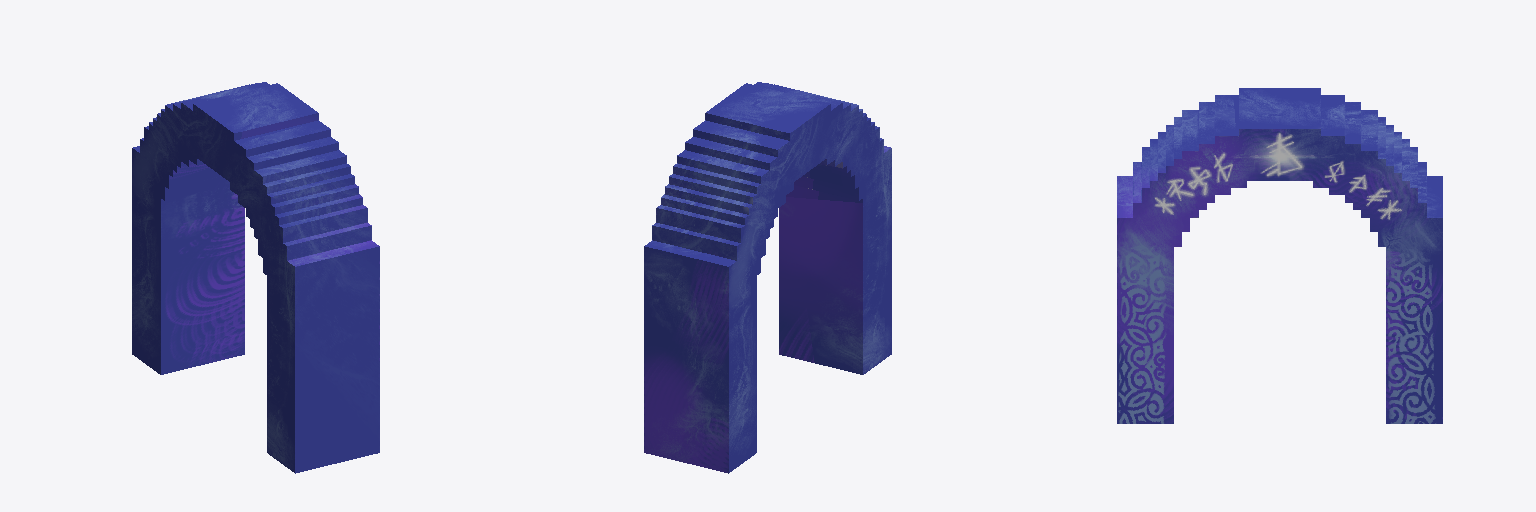
3 renders of one model, left to right at view 1: azimuth 30°, elevation 25°; view 2: azimuth 150°, elevation 25°; view 3: azimuth 270°, elevation 25°, orthographic.
Visible parts, largest first — view 1: Patch; view 2: Patch; view 3: Patch.
Part boxes in pixels (x1,y1,x2,y2): Patch: (132, 82, 379, 473); Patch: (644, 82, 891, 473); Patch: (1117, 88, 1442, 423).
Size of the model in its own units: 1.2 by 4 by 4.
Materials: 1 (1 with a texture image).